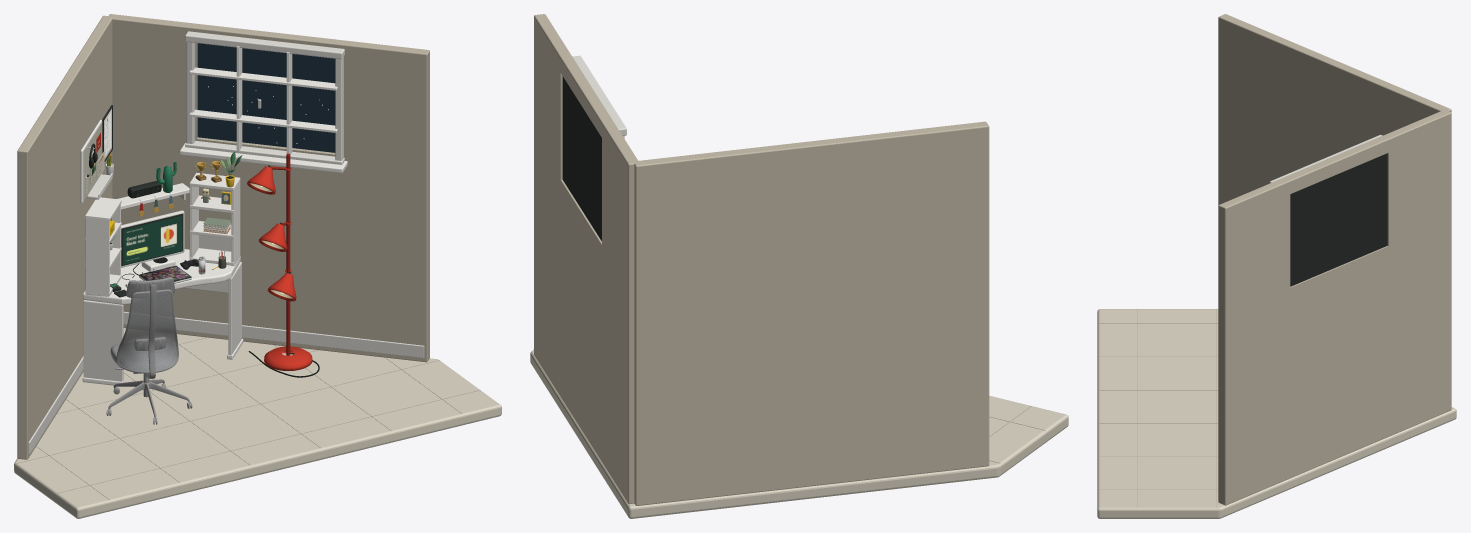
File: workspace-saved.glb
3 renders of one model, left to right at view 1: azimuth 30°, elevation 25°; view 2: azimuth 150°, elevation 25°; view 3: azimuth 270°, elevation 25°, orthographic. The views are drawn at different scales.
Visible parts, largest first — view 1: _static · Limewashed plaster, Room floor, window_glass, _static · Warm powder-coated white, chair · Supplied ergonomic office chair, window · Porcelain edges, window · Warm powder-coated white, workspace_left_wing · Porcelain edges, _static · Porcelain edges, workspace_right_wing · Porcelain edges, monitor_screen, _static · Tile grout (+3 smaller); view 2: _static · Limewashed plaster, Room floor, Window deep recess, window · Warm powder-coated white; view 3: _static · Limewashed plaster, Room floor, Window deep recess, _static · Tile grout.
Boxes of the visible parts, box(x1,y1,x2,y2) form: _static · Limewashed plaster: box(17, 14, 429, 459); Room floor: box(14, 328, 501, 518); window_glass: box(198, 43, 335, 152); _static · Warm powder-coated white: box(28, 194, 424, 454); chair · Supplied ergonomic office chair: box(106, 277, 192, 424); window · Porcelain edges: box(180, 46, 347, 172); window · Warm powder-coated white: box(185, 31, 344, 164); workspace_left_wing · Porcelain edges: box(80, 119, 121, 296); _static · Porcelain edges: box(82, 183, 243, 385); workspace_right_wing · Porcelain edges: box(189, 172, 240, 266); monitor_screen: box(123, 215, 182, 264); _static · Tile grout: box(17, 337, 480, 499); _static · Limewashed plaster: box(534, 14, 989, 505); Room floor: box(530, 350, 1068, 518); Window deep recess: box(562, 76, 601, 241); window · Warm powder-coated white: box(572, 55, 626, 138); _static · Limewashed plaster: box(1218, 14, 1451, 505); Room floor: box(1097, 309, 1456, 518); Window deep recess: box(1290, 153, 1387, 286); _static · Tile grout: box(1100, 309, 1420, 507).
Bounding box in the file's own units: 6.64 × 4.76 × 5.02.
Materials: 68 (12 with a texture image).
